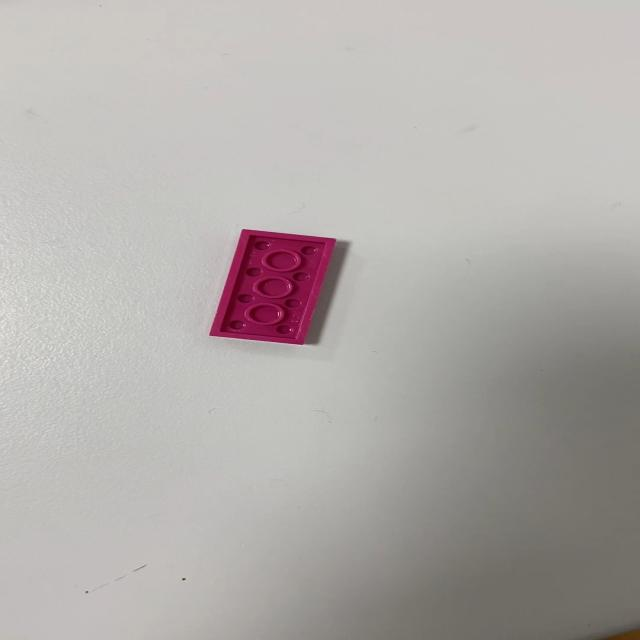C4x2x0: (203, 228, 333, 345)
